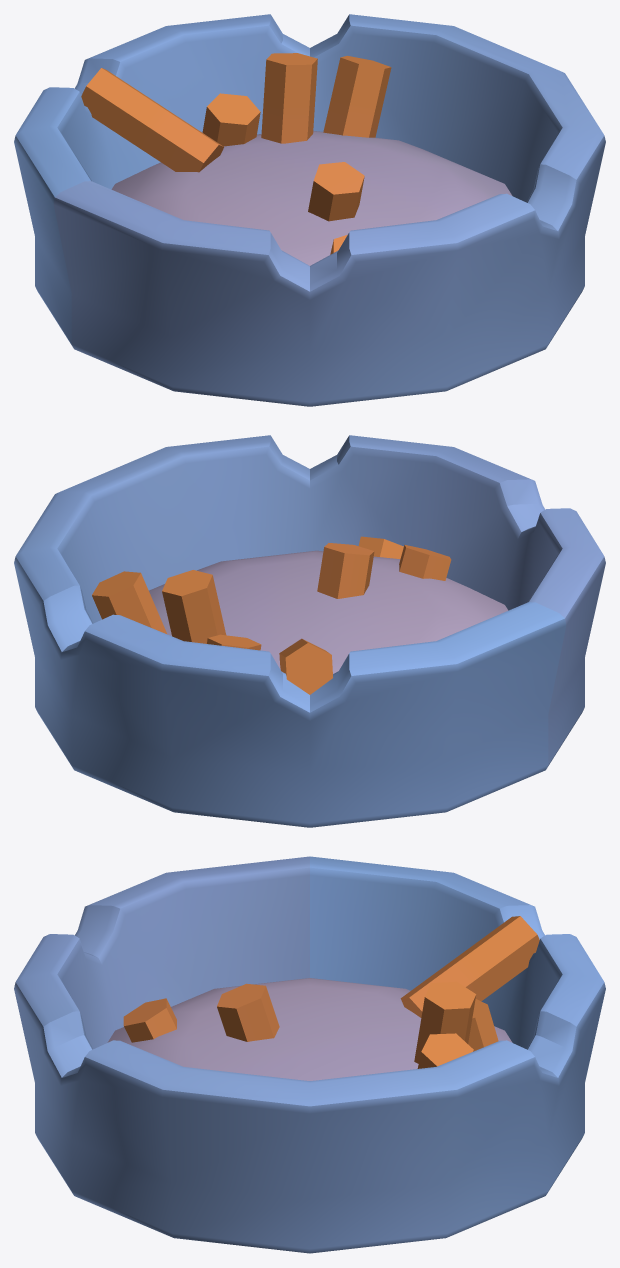
File: pepelnitsa.fbx
3 views of the same model, one above another, from view 1: azimuth 30°, elevation 25°; view 2: azimuth 150°, elevation 25°; view 3: azimuth 270°, elevation 25° (orthographic).
Parts seen in each view (by area): view 1: pepelnitsa, pepel, cigarets; view 2: pepelnitsa, pepel, cigarets; view 3: pepelnitsa, pepel, cigarets.
Part boxes in pixels (<box>): pepelnitsa: <box>14,14,605,406</box>; pepel: <box>111,130,512,265</box>; cigarets: <box>81,53,391,254</box>; pepelnitsa: <box>14,435,605,827</box>; pepel: <box>149,550,508,673</box>; cigarets: <box>92,536,451,694</box>; pepelnitsa: <box>14,856,605,1253</box>; pepel: <box>107,978,512,1080</box>; cigarets: <box>123,916,539,1068</box>.
Size of the model in its own units: 14.61 by 4.79 by 14.61.
Materials: 1 (1 with a texture image).
